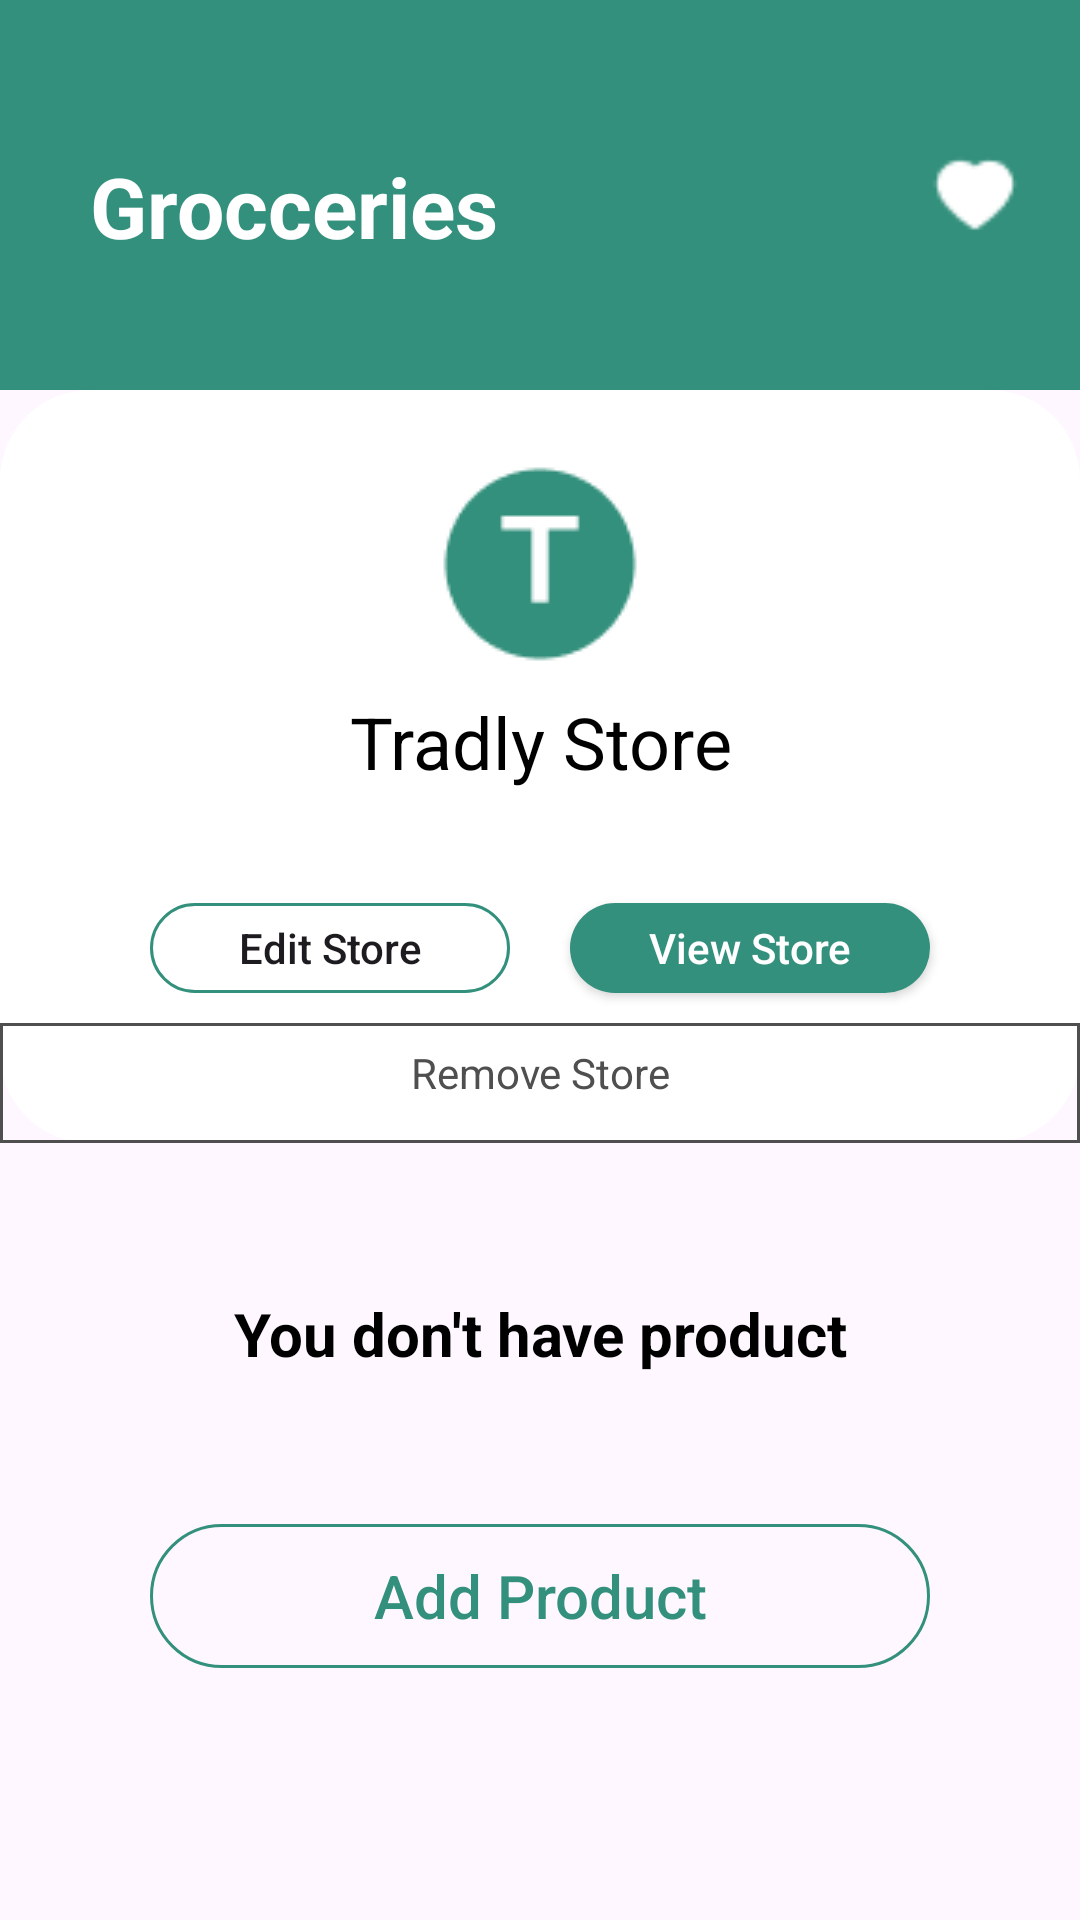

Icon bounding boxes for this 1080 x 1920 phone screenshot, format BBox(x1, y1, x2, y2):
love: BBox(935, 160, 1015, 230)
